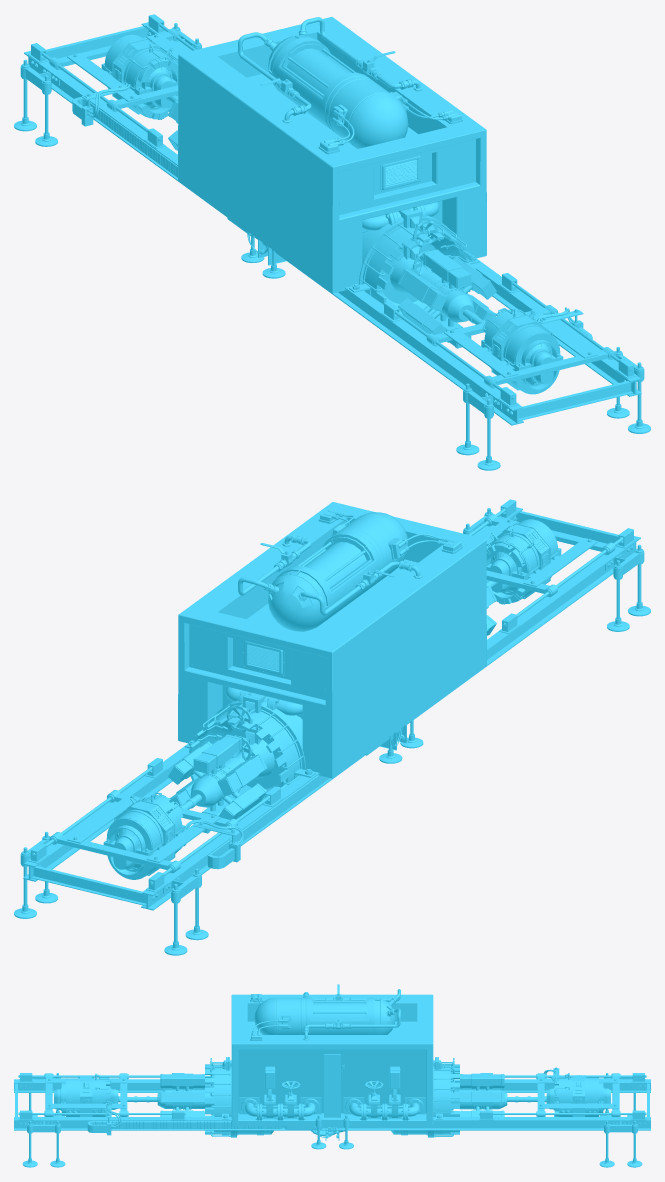
Rendered from mega_factory.glb.
The picture shows the model from 3 angles, top to bottom: view 1: azimuth 30°, elevation 25°; view 2: azimuth 150°, elevation 25°; view 3: azimuth 270°, elevation 25°; orthographic projection. The views are drawn at different scales.
Visible parts, largest first — view 1: part1a, part2a_part2_0, part3a_part2_0; view 2: part1a, part3a_part2_0, part2a_part2_0; view 3: part1a, part2a_part2_0 (×2), part3a_part2_0.
Boxes of the visible parts, bbox=[...] form: part1a: bbox=[178, 17, 486, 293]; part2a_part2_0: bbox=[258, 215, 650, 470]; part3a_part2_0: bbox=[14, 14, 286, 265]; part1a: bbox=[178, 502, 486, 778]; part3a_part2_0: bbox=[14, 700, 406, 955]; part2a_part2_0: bbox=[380, 499, 650, 750]; part1a: bbox=[210, 984, 454, 1149]; part2a_part2_0 (×2): bbox=[14, 1062, 344, 1167]; part3a_part2_0: bbox=[311, 1062, 650, 1167].
Size of the model in its own units: 303 by 359 by 1467.
